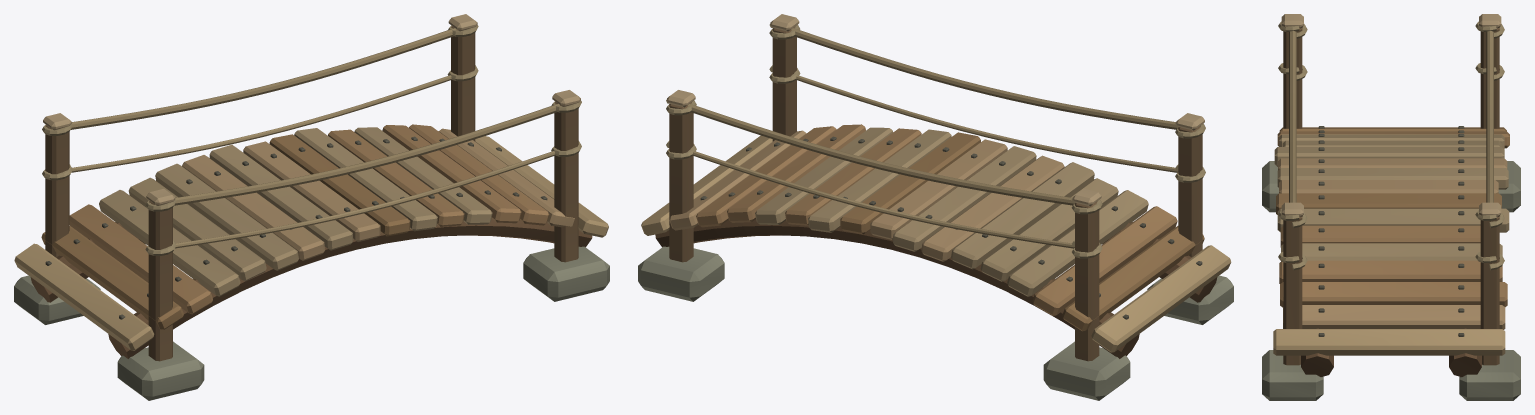
File: hearthfield-footbridge.glb
3 views of the same model, side by side, from view 1: azimuth 30°, elevation 25°; view 2: azimuth 150°, elevation 25°; view 3: azimuth 270°, elevation 25° (orthographic). The views are drawn at different scales.
Visible parts, largest first — view 1: Hearthfield_Footbridge; view 2: Hearthfield_Footbridge; view 3: Hearthfield_Footbridge.
Boxes of the visible parts, left/top/right/bottom form: Hearthfield_Footbridge: left=14, top=14, right=609, bottom=400; Hearthfield_Footbridge: left=638, top=14, right=1233, bottom=400; Hearthfield_Footbridge: left=1262, top=14, right=1520, bottom=400.
Bounding box in the file's own units: 3.84 × 1.48 × 1.89.
